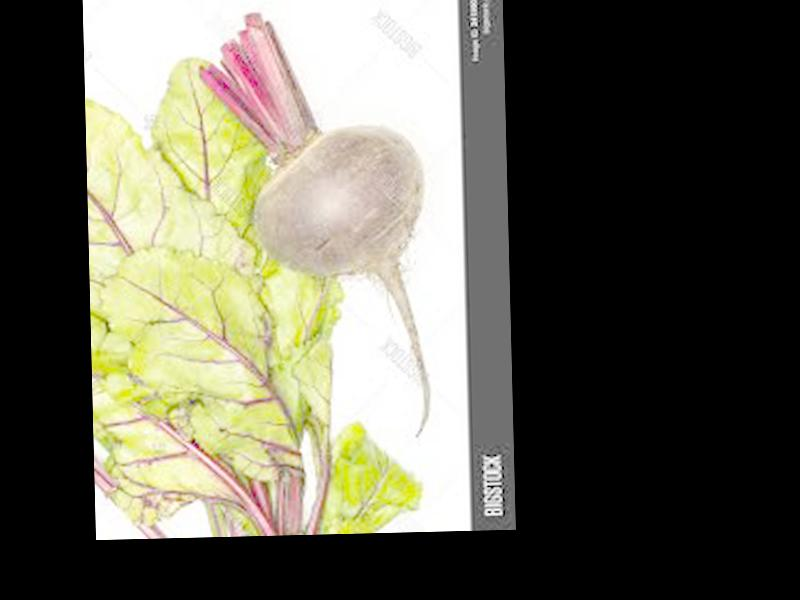Beet: (198, 8, 431, 442)
